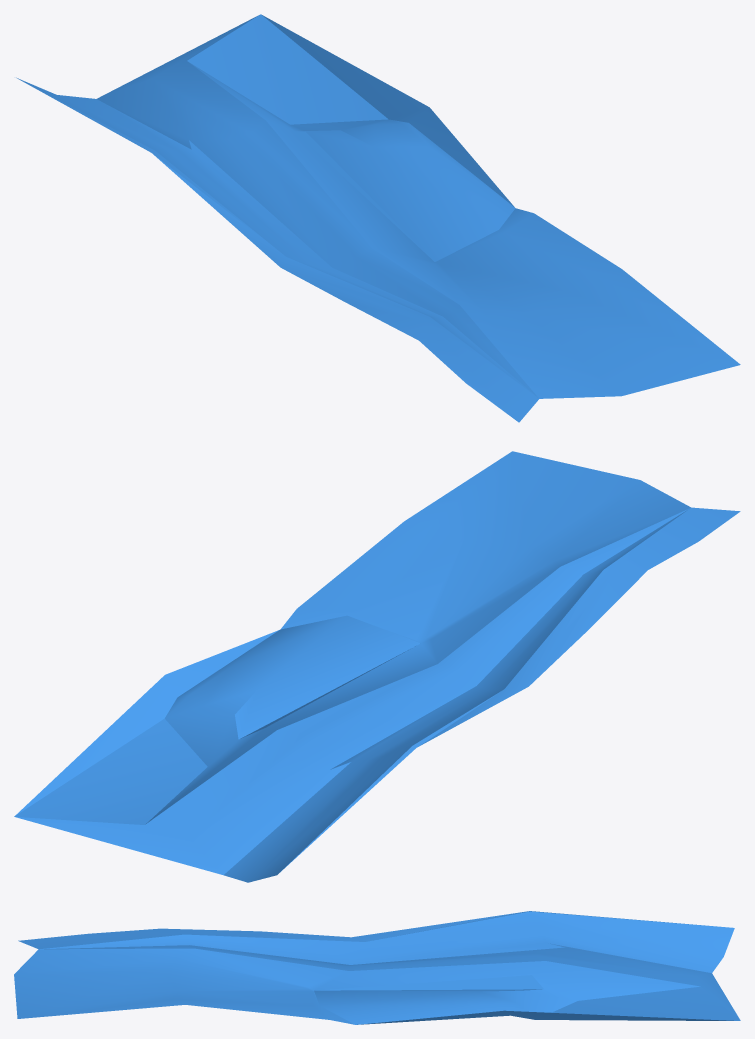
File: Water_Stream_01.fbx
3 renders of one model, top to bottom at view 1: azimuth 30°, elevation 25°; view 2: azimuth 150°, elevation 25°; view 3: azimuth 270°, elevation 25°, orthographic. The views are drawn at different scales.
Parts seen in each view (by area): view 1: Model; view 2: Model; view 3: Model.
Part boxes in pixels (bbox=[...]): Model: bbox=[16, 14, 740, 422]; Model: bbox=[14, 451, 740, 882]; Model: bbox=[14, 911, 740, 1024].
Bounding box in the file's own units: 1733 × 328 × 5540.
